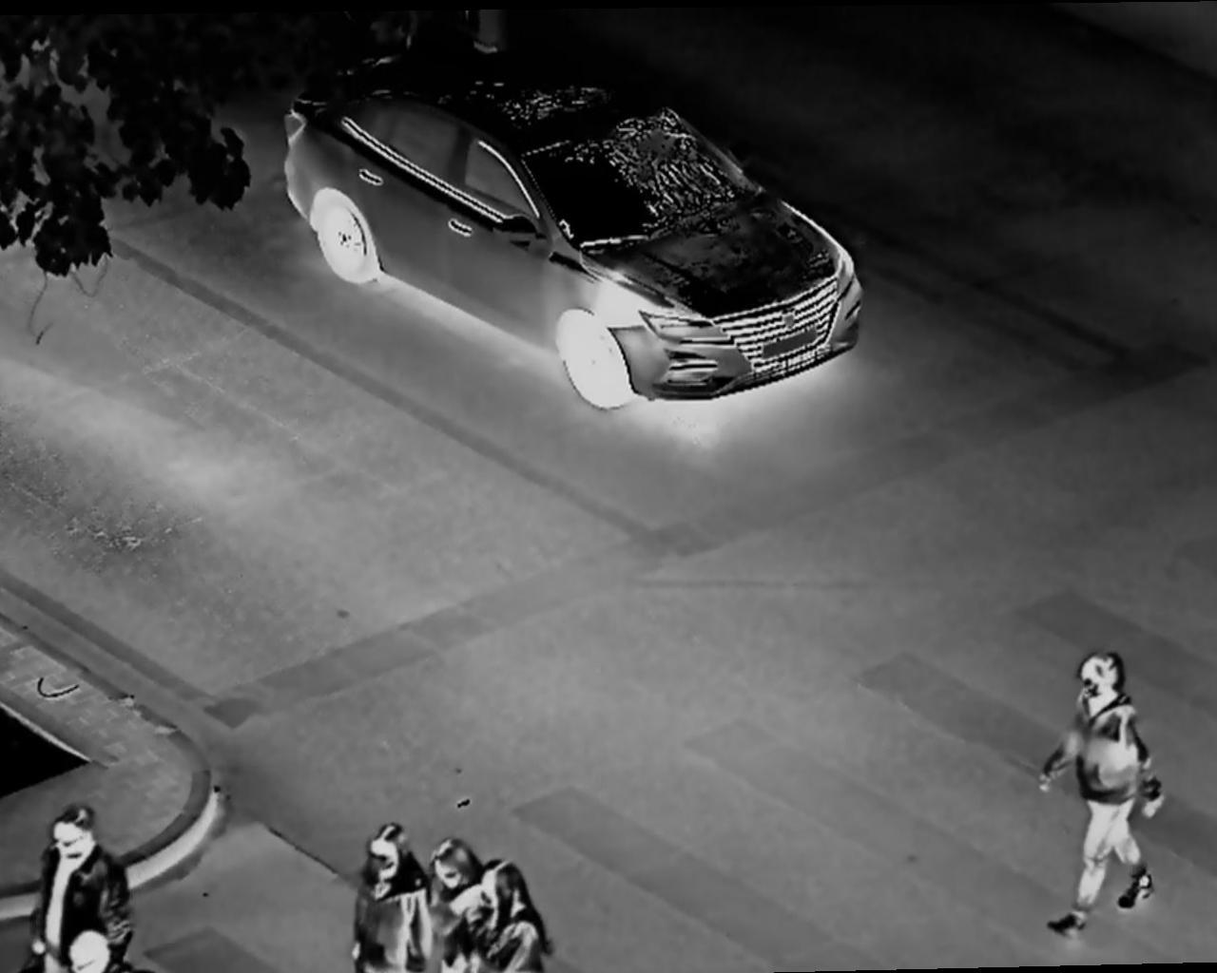person: (1023, 650, 1185, 956), (37, 799, 131, 966), (349, 821, 434, 973), (478, 863, 551, 973), (428, 838, 486, 944)
